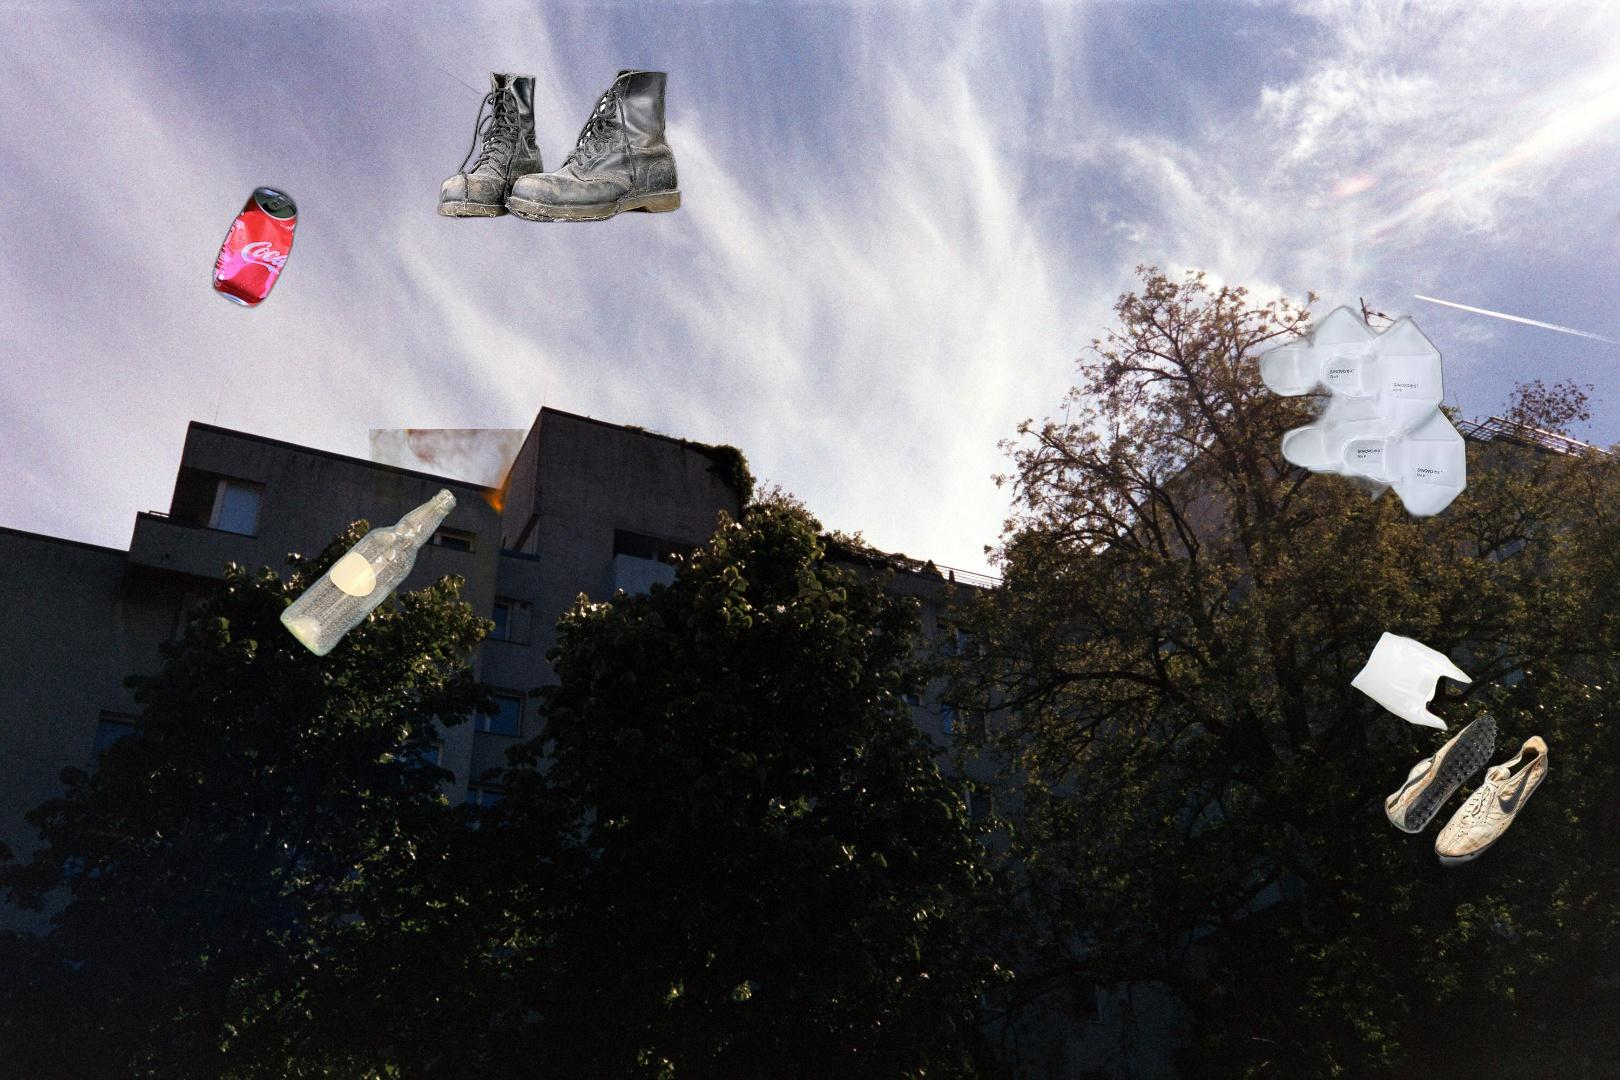glass: (275, 483, 460, 663)
metal-cans: (209, 181, 303, 315)
plastic-bag: (369, 429, 669, 729), (1319, 554, 1526, 793)
shoes: (425, 54, 683, 225), (1383, 712, 1552, 871)
trash: (1252, 300, 1477, 526)
trashbox-cardboard: (1222, 634, 1620, 1080)
